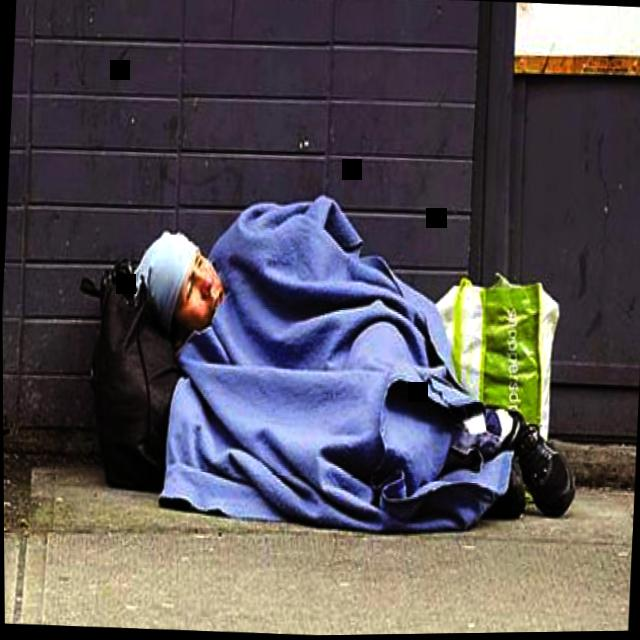Fall-Detected: (51, 156, 603, 550)
